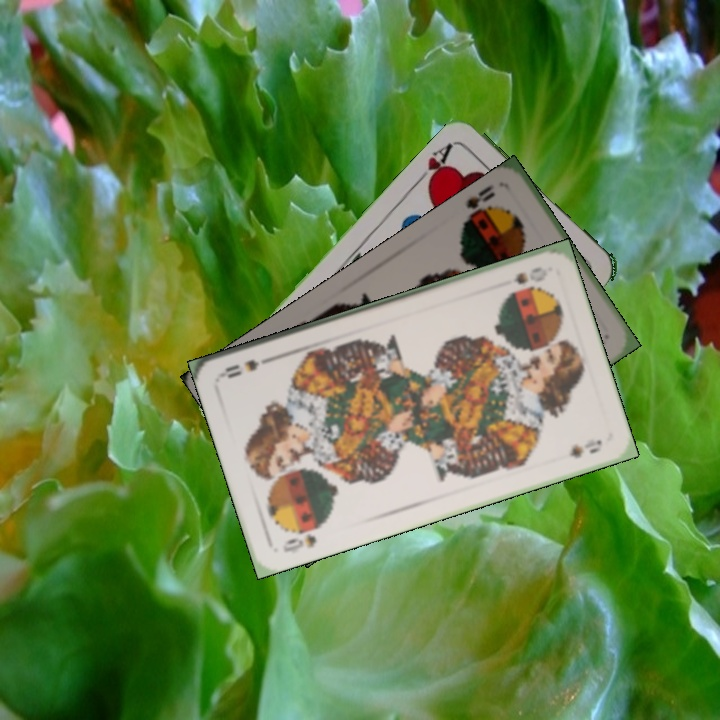HA: (412, 138, 456, 192)
SO: (458, 180, 498, 229), (278, 522, 324, 556), (511, 262, 550, 288)
